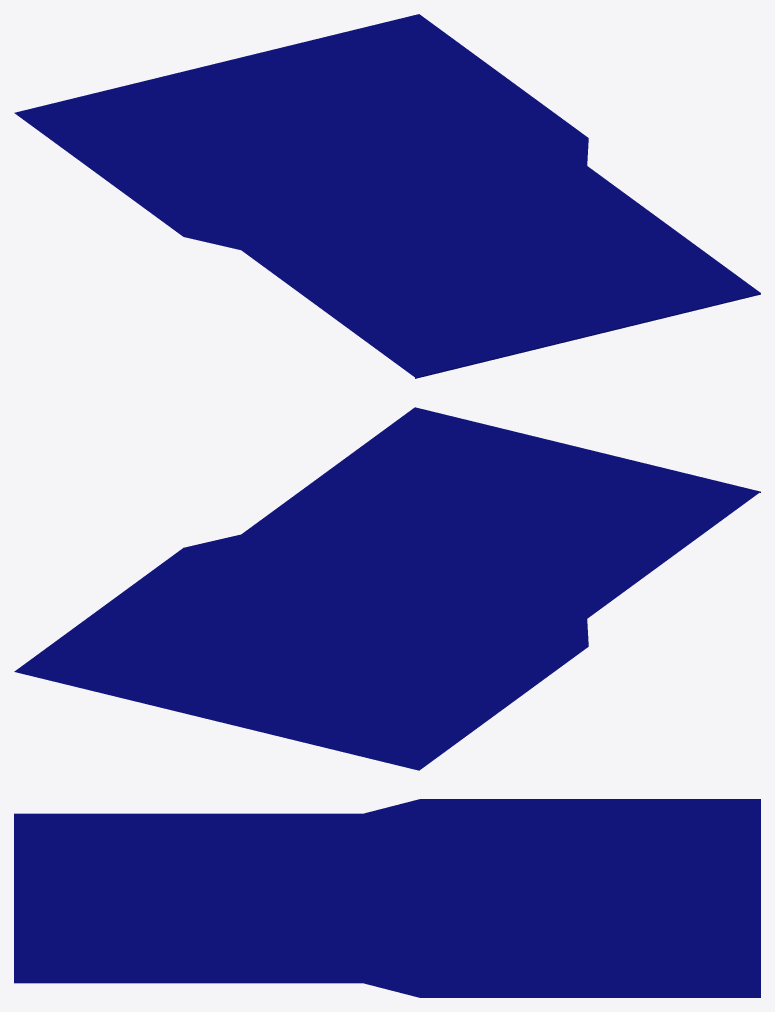
Rendered from FootballStadium_InnerWallsFloorsCeilings_FieldStuff_Railings_TrophyRoomFloor.FBX.
3 views of the same model, one above another, from view 1: azimuth 30°, elevation 25°; view 2: azimuth 150°, elevation 25°; view 3: azimuth 270°, elevation 25° (orthographic).
Visible parts, largest first — view 1: FootballStadium_InnerWallsFloorsCeilings_FieldStuff_Railings; view 2: FootballStadium_InnerWallsFloorsCeilings_FieldStuff_Railings; view 3: FootballStadium_InnerWallsFloorsCeilings_FieldStuff_Railings.
Part boxes in pixels (x1,y1,x2,y2): FootballStadium_InnerWallsFloorsCeilings_FieldStuff_Railings: [14, 14, 760, 378]; FootballStadium_InnerWallsFloorsCeilings_FieldStuff_Railings: [14, 407, 760, 770]; FootballStadium_InnerWallsFloorsCeilings_FieldStuff_Railings: [14, 799, 760, 997].
Bounding box in the file's own units: 2344 × 3721 × 8.25.
